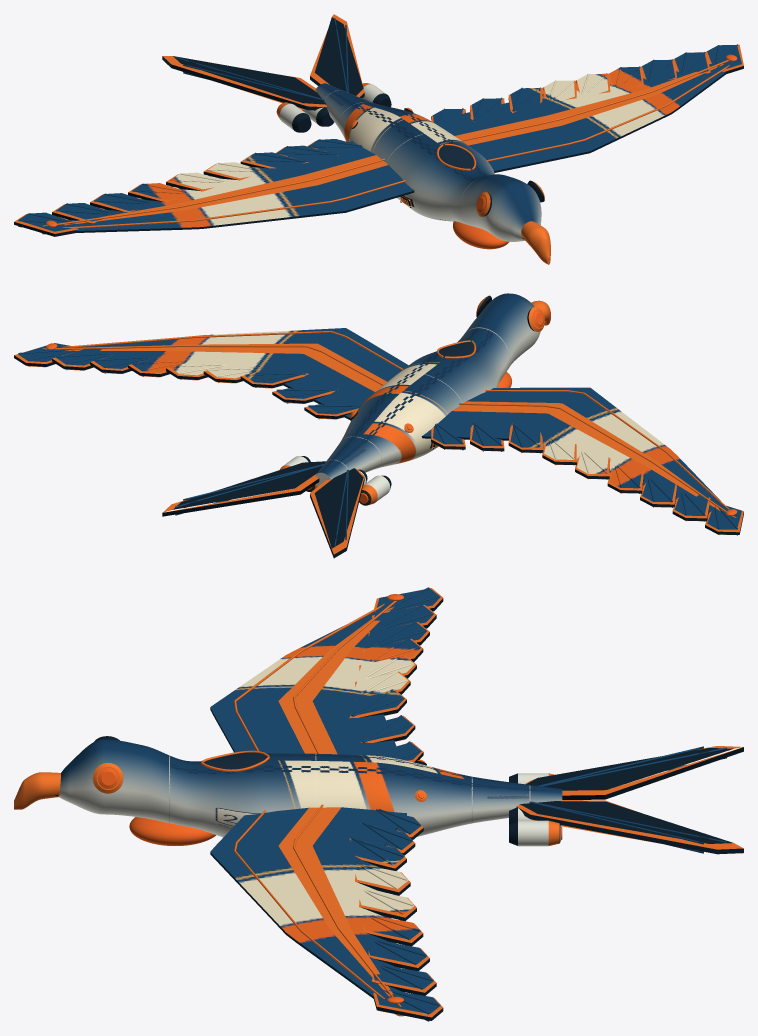
3 renders of one model, top to bottom at view 1: azimuth 30°, elevation 25°; view 2: azimuth 150°, elevation 25°; view 3: azimuth 270°, elevation 25°, orthographic. The views are drawn at different scales.
Visible parts, largest first — view 1: frigatebird_hull; view 2: frigatebird_hull; view 3: frigatebird_hull.
Boxes of the visible parts, x1,y1,x2,y2 form: frigatebird_hull: (14,14,743,264); frigatebird_hull: (14,293,743,558); frigatebird_hull: (14,587,743,1021).
Bounding box in the file's own units: 272 × 29 × 195.
1 material, 1 textured.
